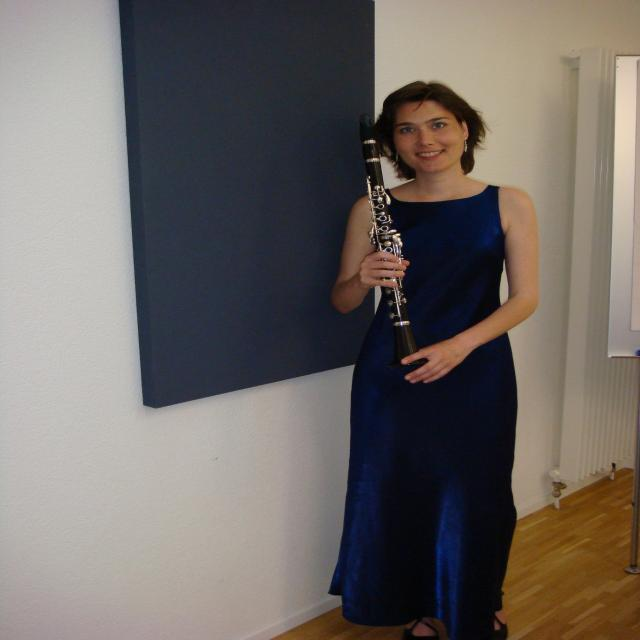clarinet: (352, 114, 433, 373)
